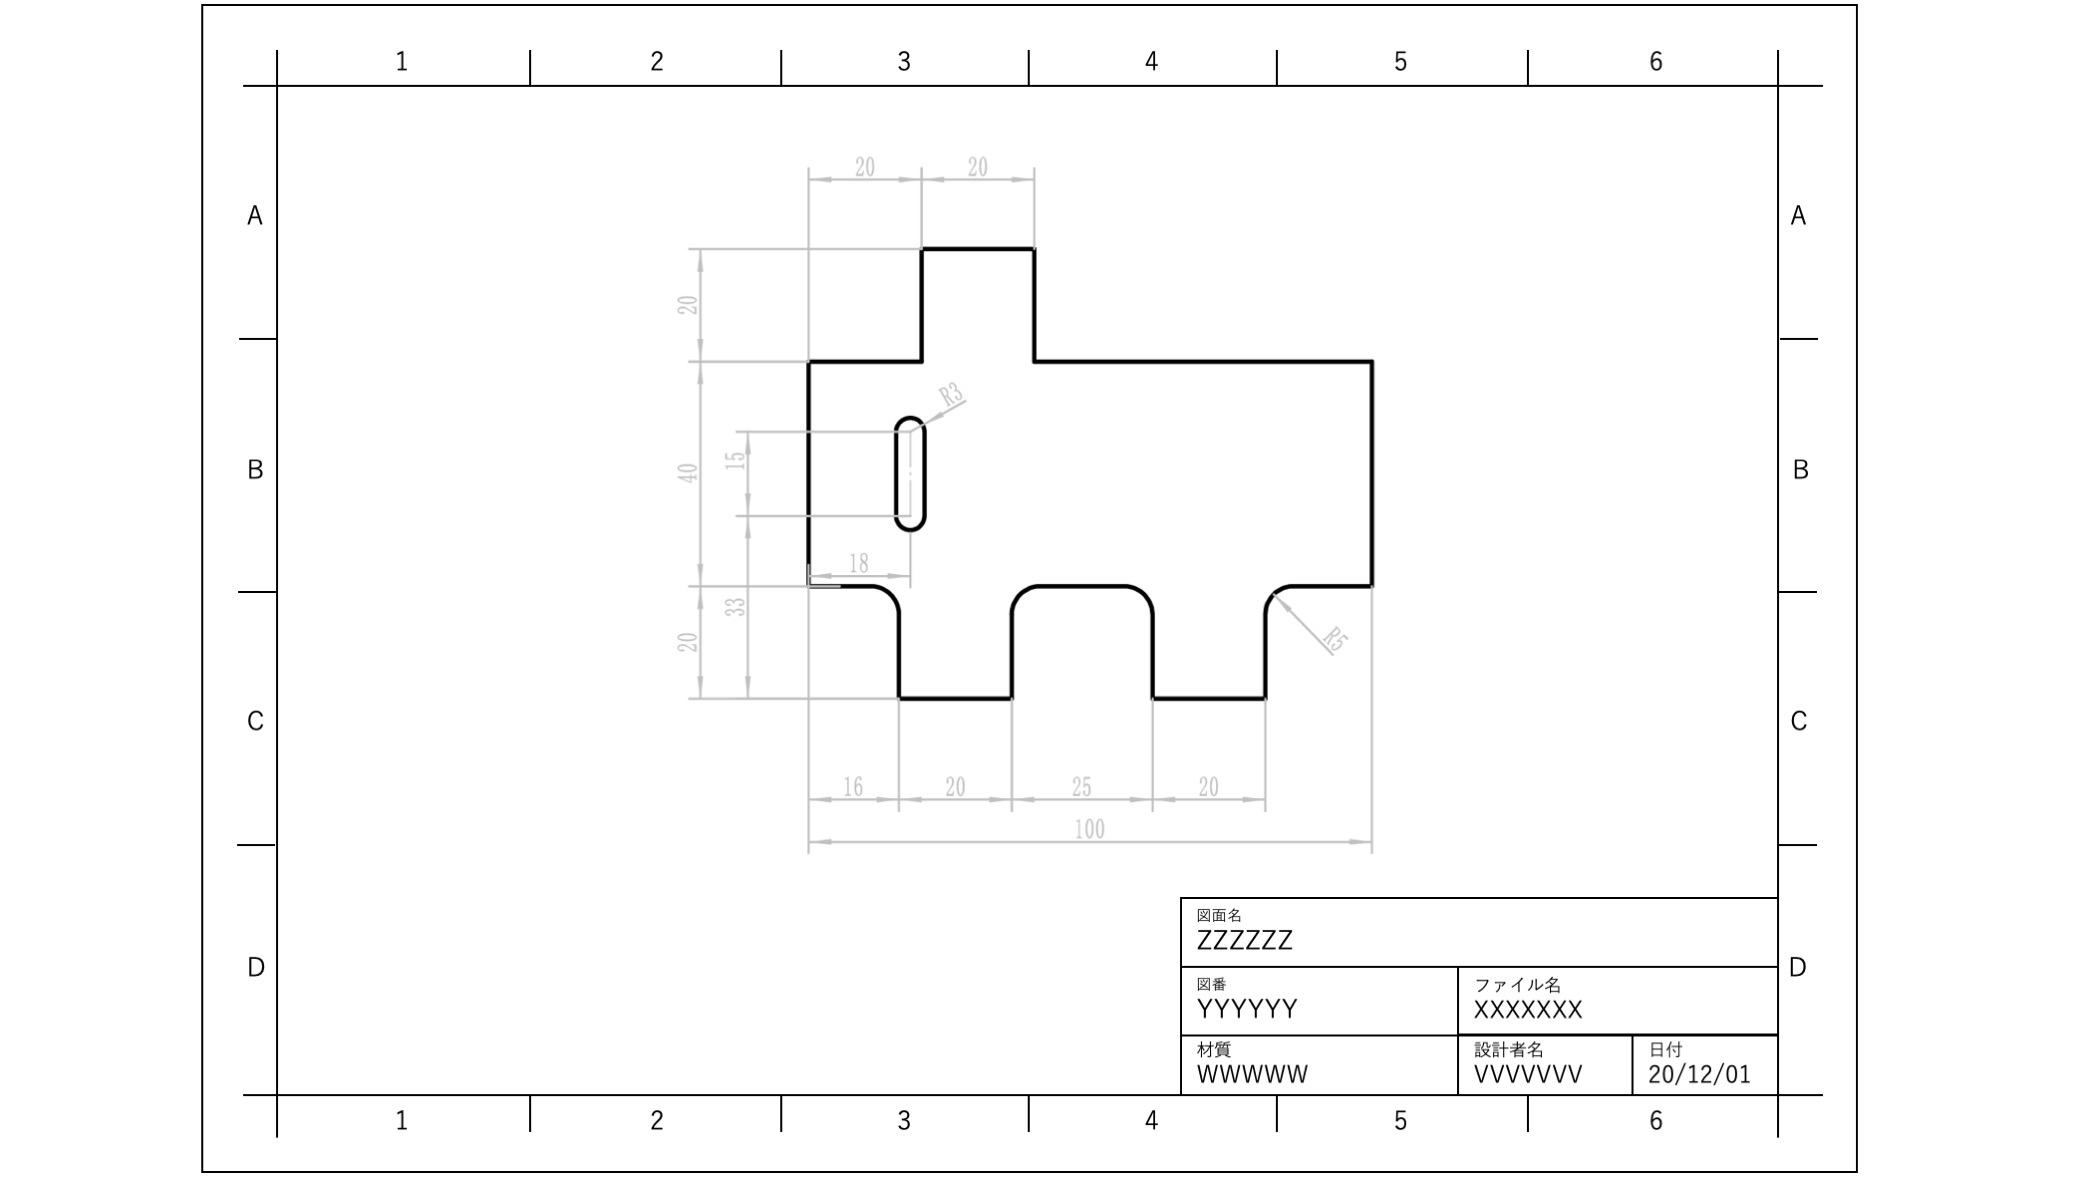round_rectangle: (888, 401, 930, 547)
